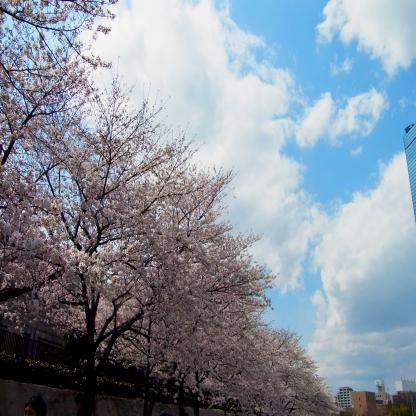EdohiganSakura: (98, 90, 235, 392), (188, 311, 331, 411)
Someiyoshino: (1, 4, 112, 346)
